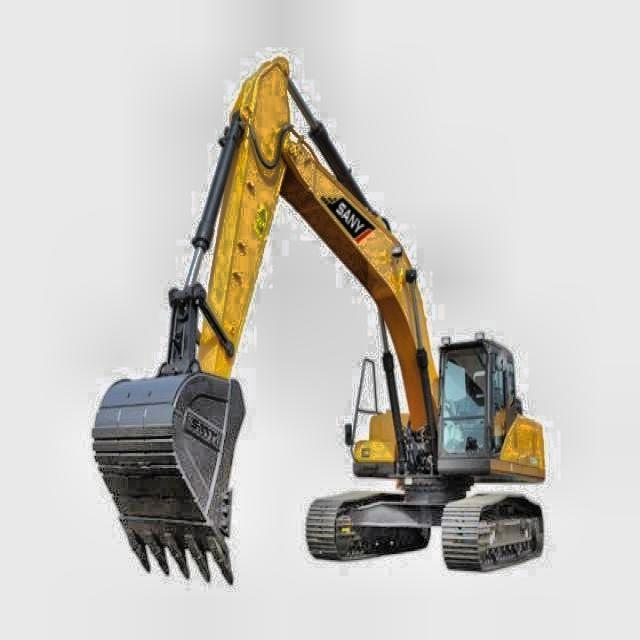excavator: (88, 53, 548, 590)
